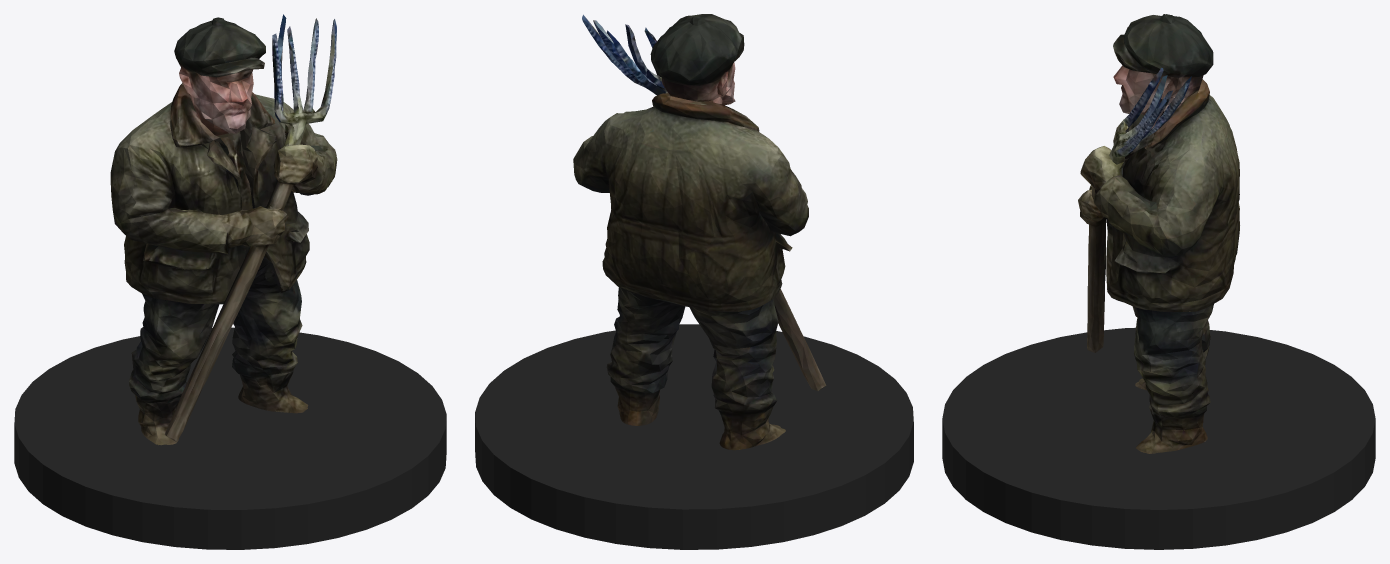
Rendered from andrew-evans.glb.
The picture shows the model from 3 angles, left to right: view 1: azimuth 30°, elevation 25°; view 2: azimuth 150°, elevation 25°; view 3: azimuth 270°, elevation 25°; orthographic projection.
Visible parts, largest first — view 1: base, figure; view 2: base, figure; view 3: base, figure.
Part boxes in pixels (x1,y1,x2,y2): base: (14,327,446,549); figure: (110,14,337,445); base: (475,324,913,549); figure: (573,14,826,450); base: (942,327,1375,549); figure: (1078,14,1239,453).
Size of the model in its own units: 1.18 by 1.32 by 1.18.
2 materials, 1 textured.
